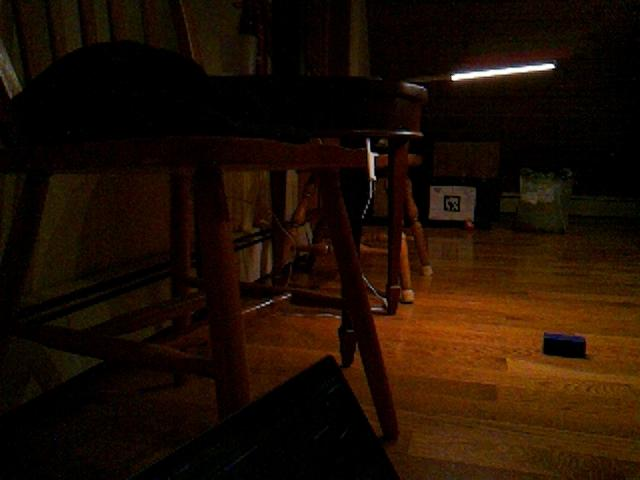blue: (541, 330, 588, 360)
